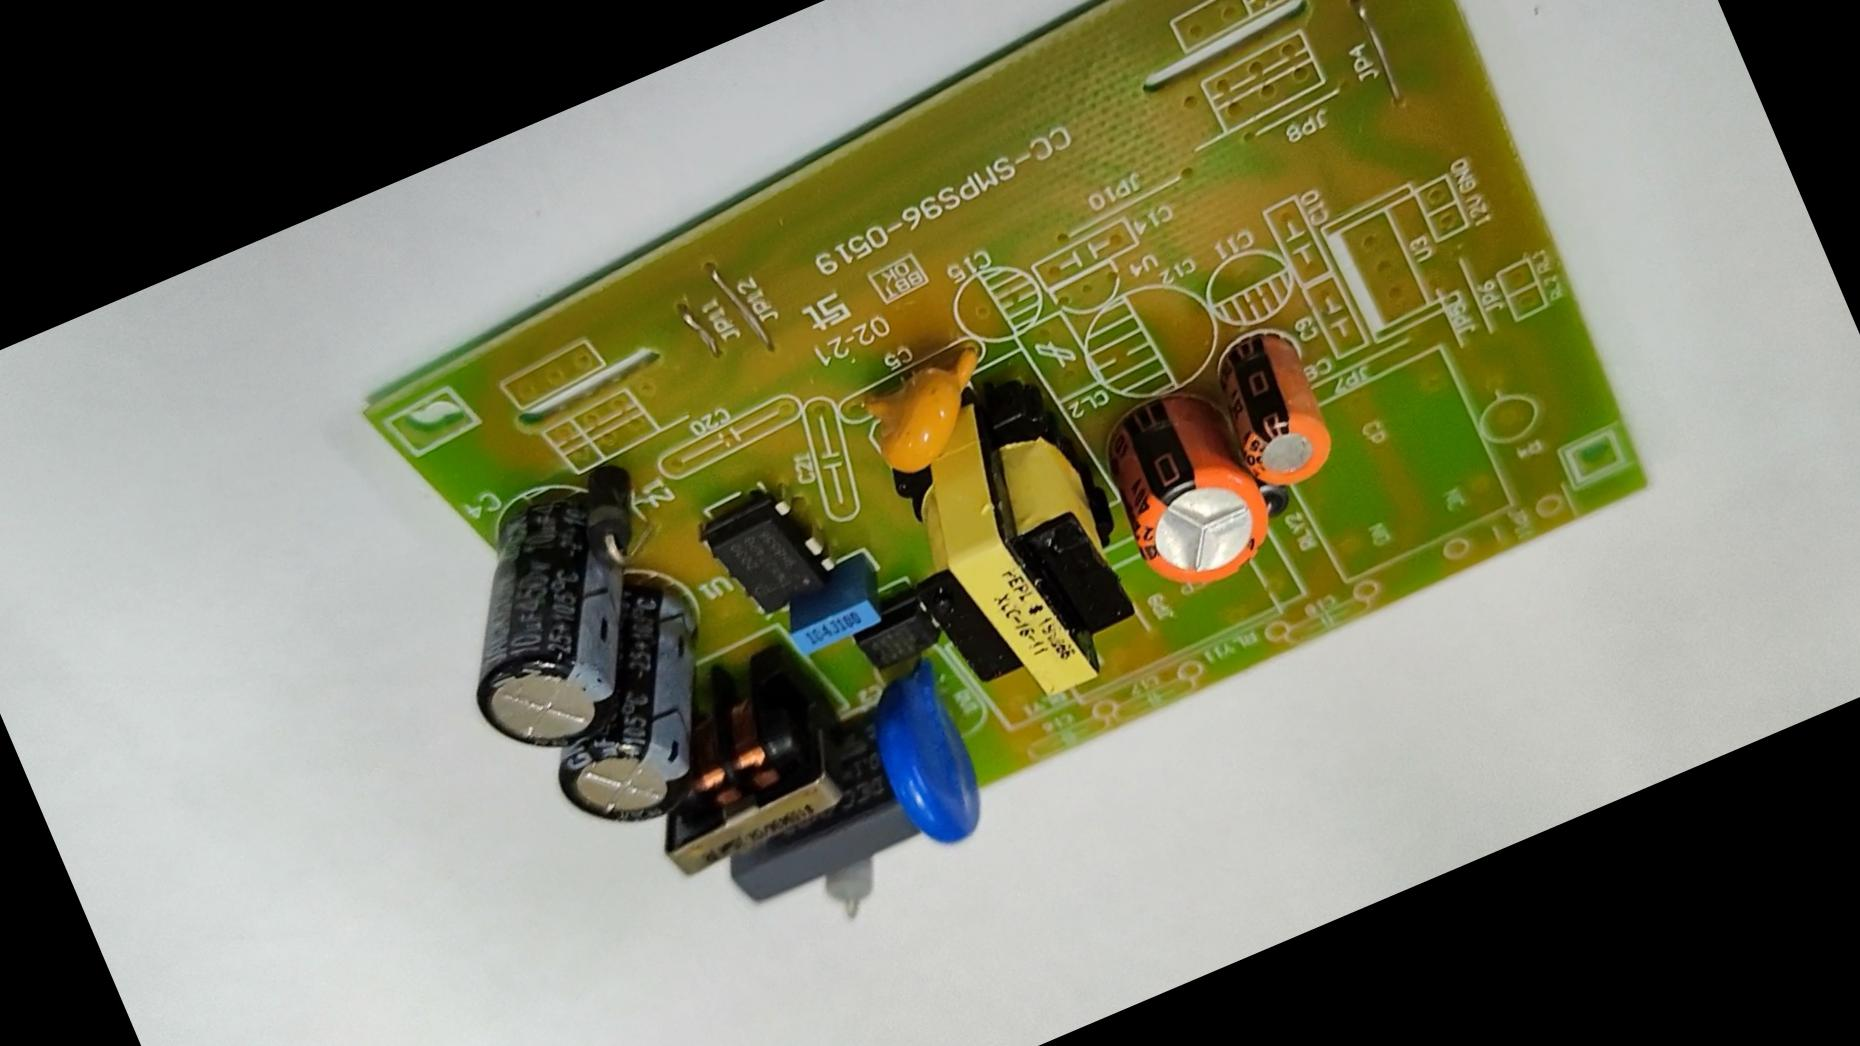Cap1: (1073, 360, 1298, 616)
Cap2: (1192, 312, 1354, 507)
Cap3: (492, 558, 772, 858)
Cap4: (396, 450, 699, 779)
MOSFET: (683, 456, 870, 642)
Mov: (841, 637, 1019, 865)
Resistor: (789, 793, 904, 930)
Transformer: (847, 360, 1184, 747), (577, 628, 889, 914)
